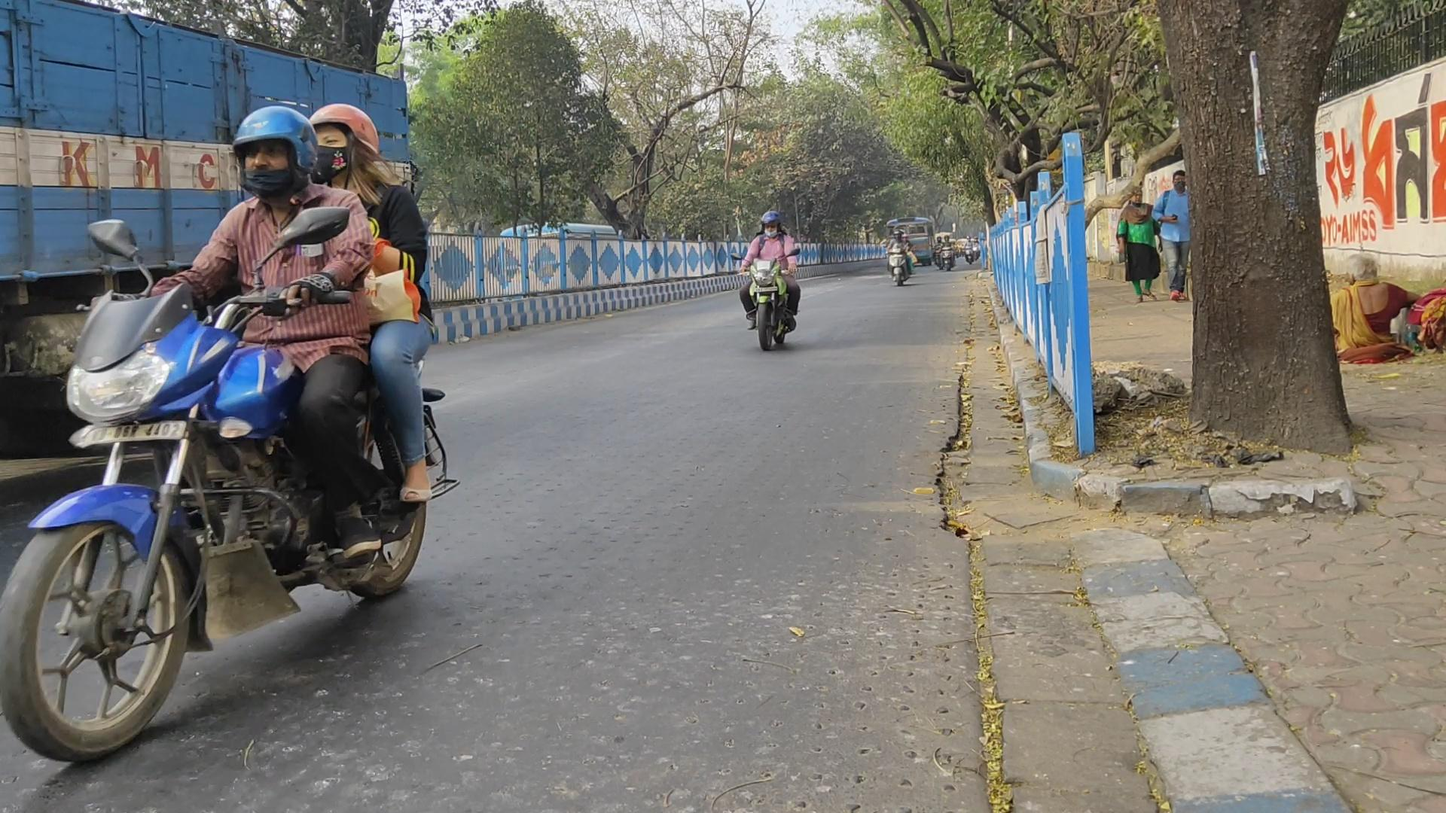Bus: (885, 216, 937, 269)
bike: (5, 102, 461, 764), (731, 211, 801, 351), (886, 227, 915, 286), (940, 235, 956, 273), (963, 236, 976, 265)
